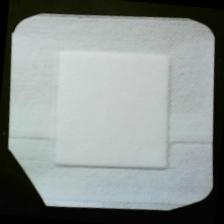Cut: (1, 2, 224, 223)
